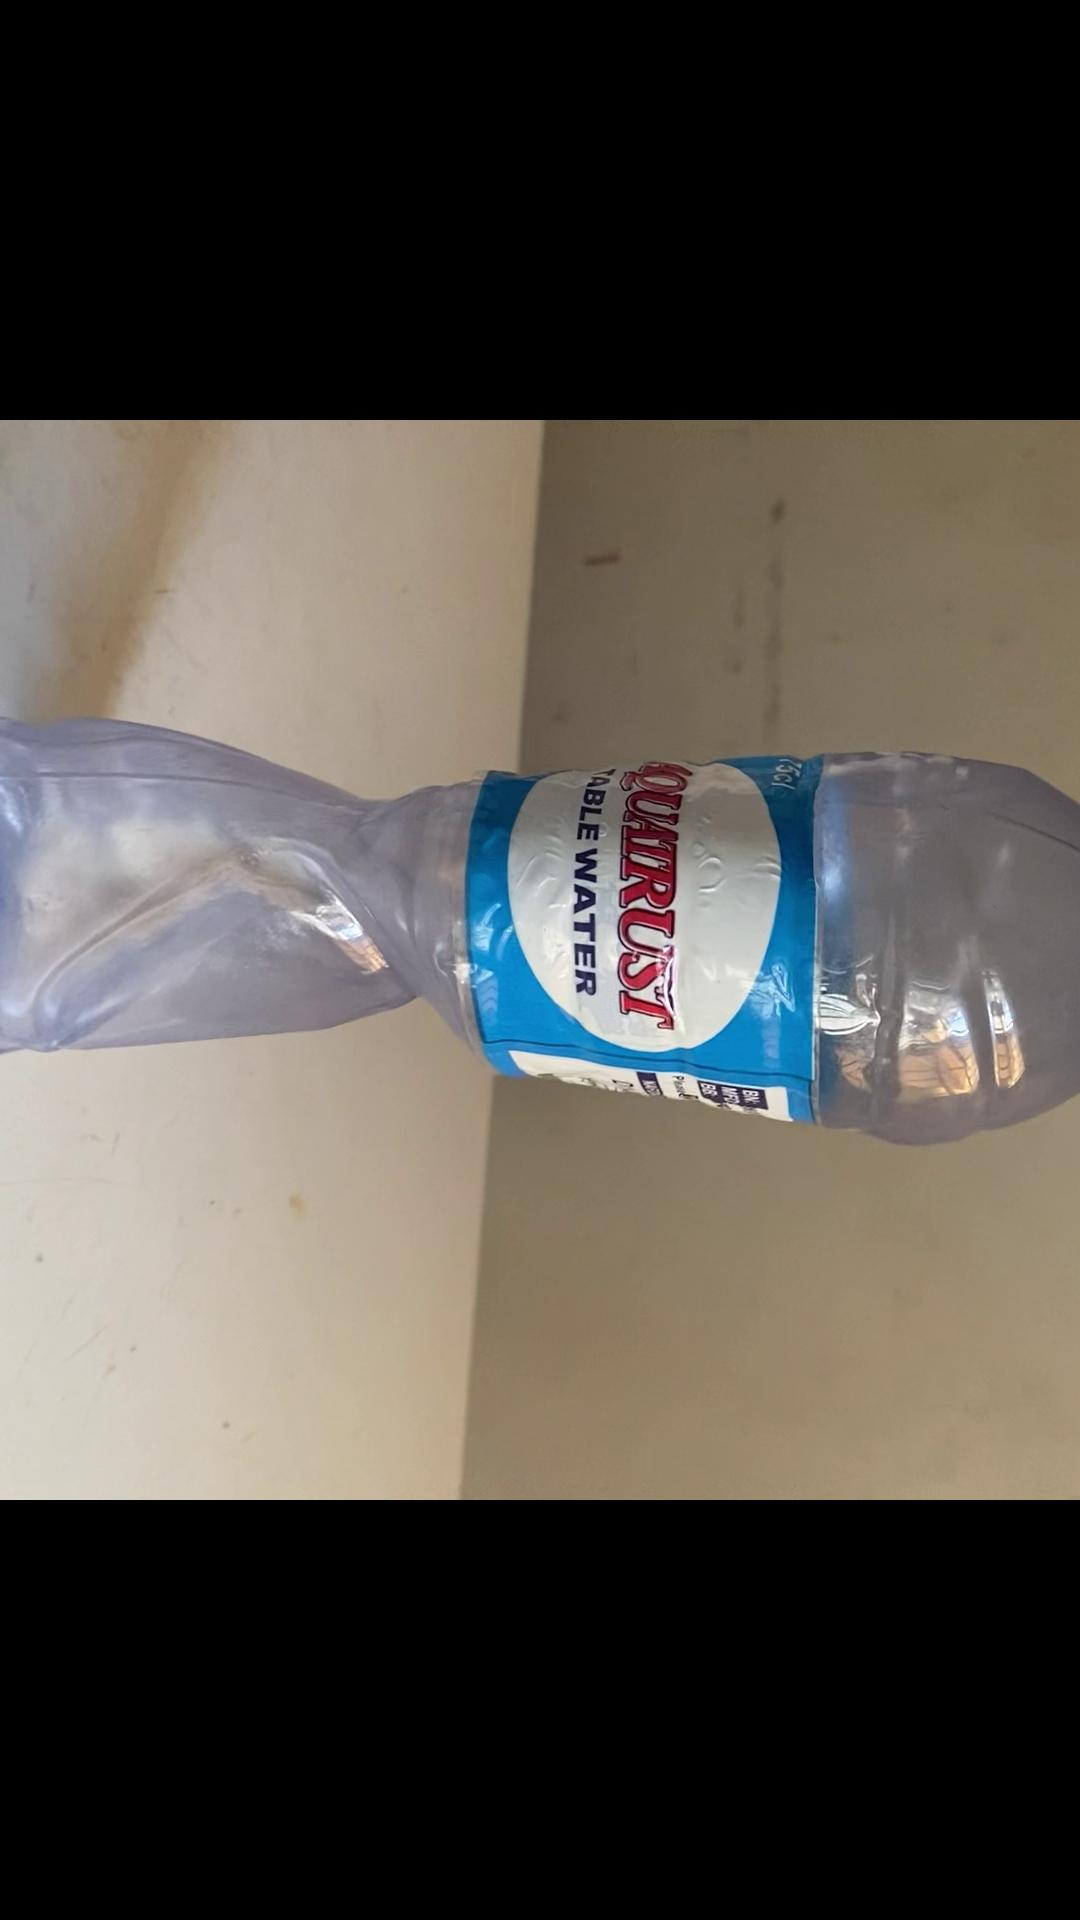crumbled: (0, 698, 1080, 1153)
label: (462, 754, 825, 1106)
